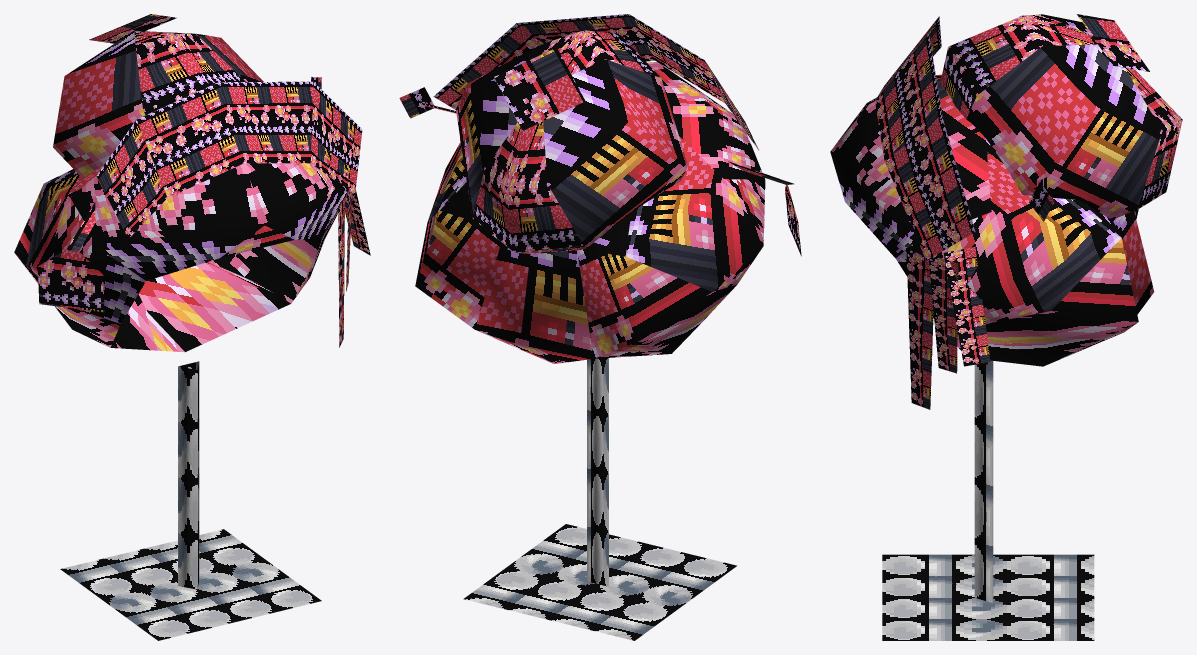
The model's file is 2918head071_c.gltf.
The picture shows the model from 3 angles, left to right: view 1: azimuth 30°, elevation 25°; view 2: azimuth 150°, elevation 25°; view 3: azimuth 270°, elevation 25°; orthographic projection. The views are drawn at different scales.
Visible parts, largest first — view 1: 2918head071_c; view 2: 2918head071_c; view 3: 2918head071_c.
Part boxes in pixels (left/top/right/bottom): 2918head071_c: left=14, top=14, right=370, bottom=640; 2918head071_c: left=399, top=14, right=801, bottom=640; 2918head071_c: left=830, top=14, right=1182, bottom=640.
Size of the model in its own units: 0.9609 by 1.47 by 0.7976.
Materials: 2 (2 with a texture image).
